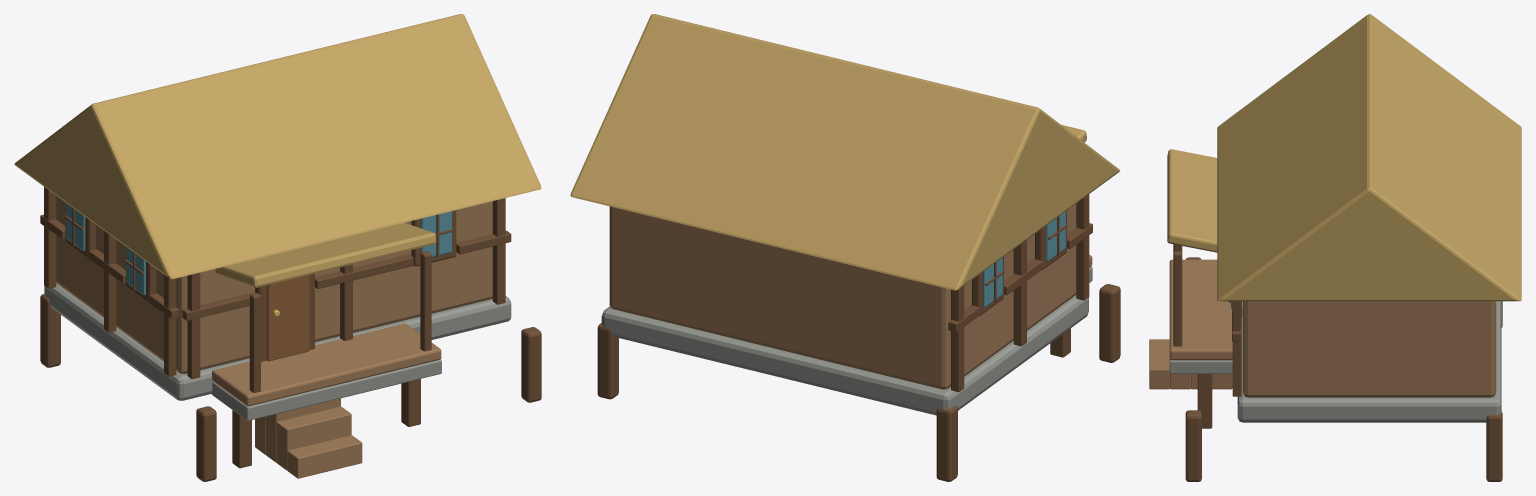
Rendered from wetland-farmstead-0.glb.
3 renders of one model, left to right at view 1: azimuth 30°, elevation 25°; view 2: azimuth 150°, elevation 25°; view 3: azimuth 270°, elevation 25°, orthographic. The views are drawn at different scales.
Visible parts, largest first — view 1: Golden thatch, Aged oak, Dark beams, Foundation stone, Door oak, Blue glass; view 2: Golden thatch, Aged oak, Foundation stone, Dark beams, Blue glass; view 3: Golden thatch, Aged oak, Foundation stone, Dark beams.
Part boxes in pixels (x1,y1,x2,y2): Golden thatch: (14,14,541,287); Aged oak: (56,196,492,478); Dark beams: (40,187,541,481); Foundation stone: (44,283,511,420); Door oak: (267,275,309,361); Blue glass: (66,203,451,295); Golden thatch: (570,14,1120,290); Aged oak: (609,204,1092,389); Foundation stone: (601,266,1092,415); Dark beams: (597,194,1120,481); Blue glass: (983,211,1065,307); Golden thatch: (1167,14,1521,301); Aged oak: (1149,259,1496,397); Foundation stone: (1169,301,1501,422); Dark beams: (1173,244,1502,481).
Bounding box in the file's own units: 4.6 × 3.69 × 4.12.
